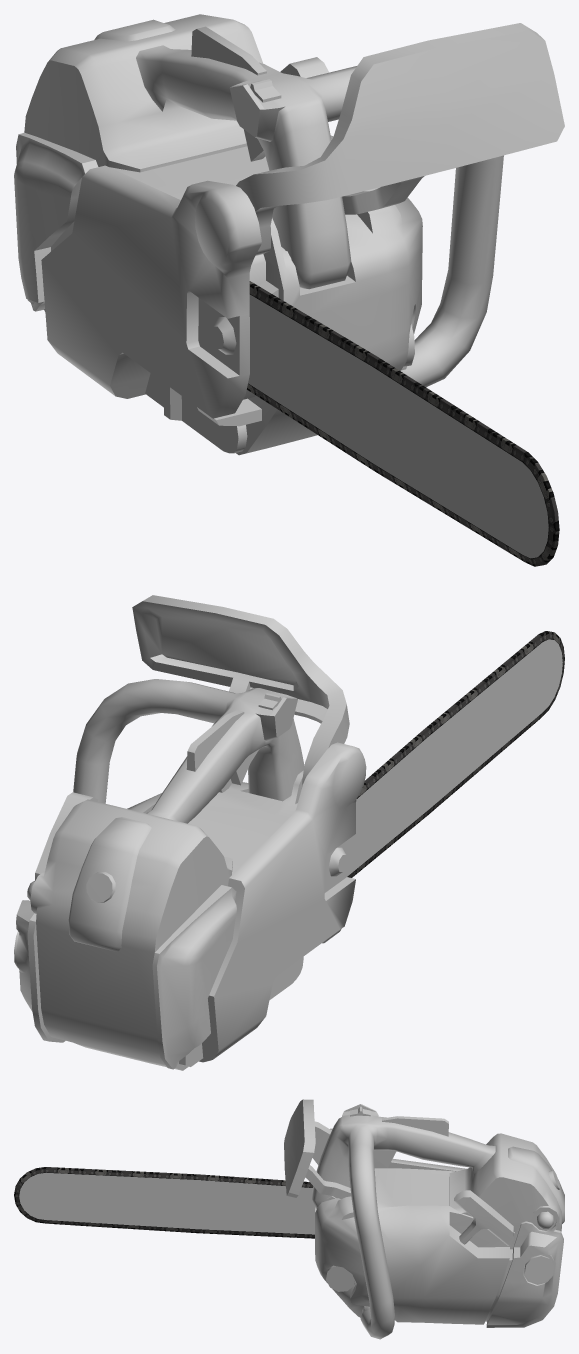
File: Chainsaw01.fbx
3 renders of one model, top to bottom at view 1: azimuth 30°, elevation 25°; view 2: azimuth 150°, elevation 25°; view 3: azimuth 270°, elevation 25°, orthographic. The views are drawn at different scales.
Parts seen in each view (by area): view 1: Chainsaw01; view 2: Chainsaw01; view 3: Chainsaw01.
Part boxes in pixels (x1,y1,x2,y2): Chainsaw01: (14,14,564,566); Chainsaw01: (14,595,564,1070); Chainsaw01: (14,1099,564,1339).
Size of the model in its own units: 32.98 by 39.89 by 94.26.
